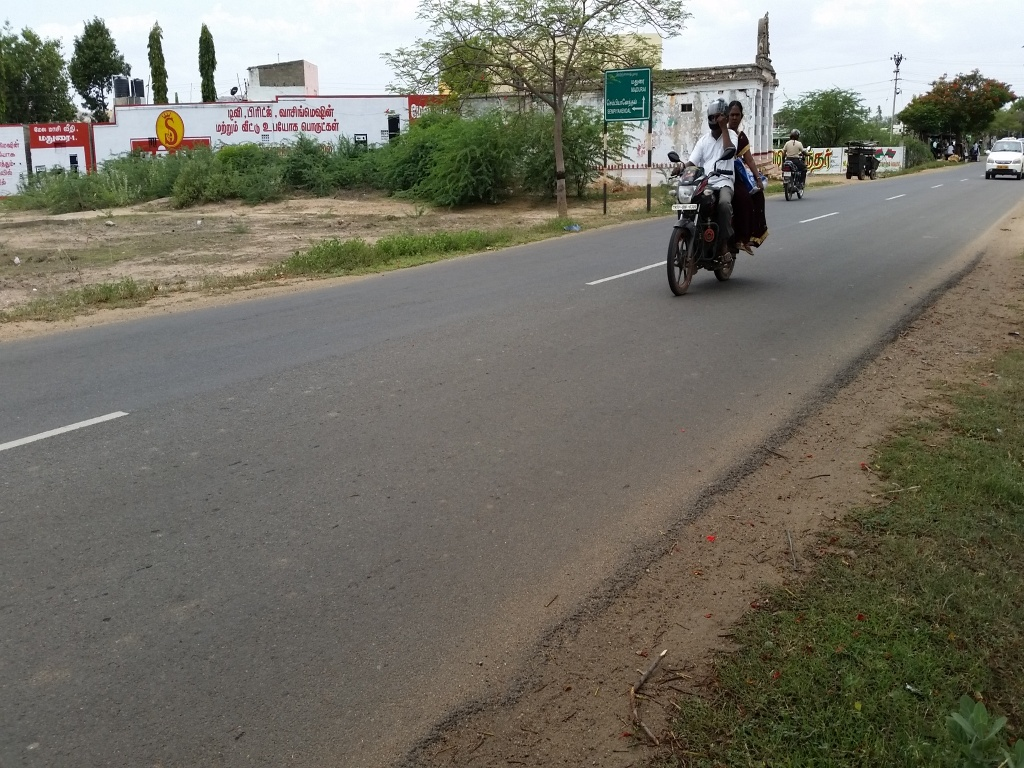biker: (646, 66, 773, 303), (771, 107, 818, 203)
helmet: (703, 94, 727, 140), (785, 119, 806, 145)
nohelmet: (727, 91, 749, 134)
